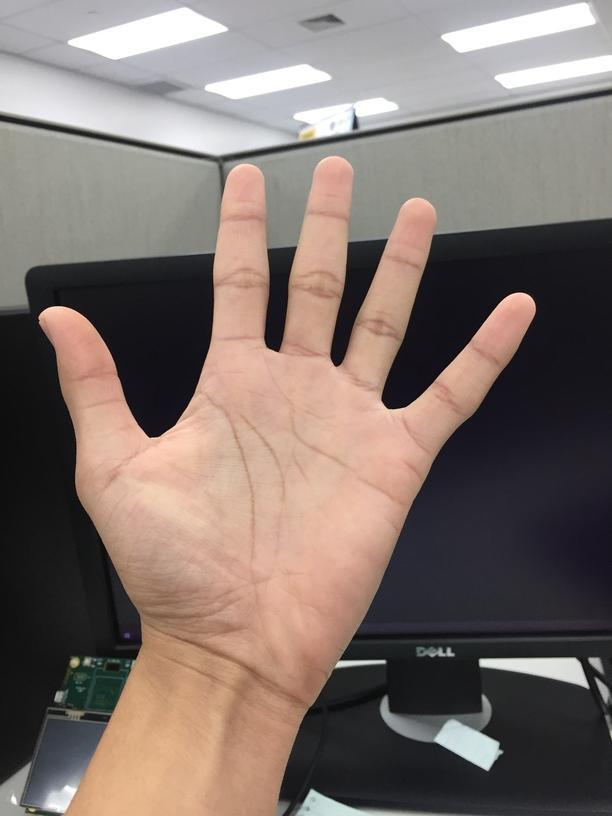hand: (39, 152, 536, 707)
